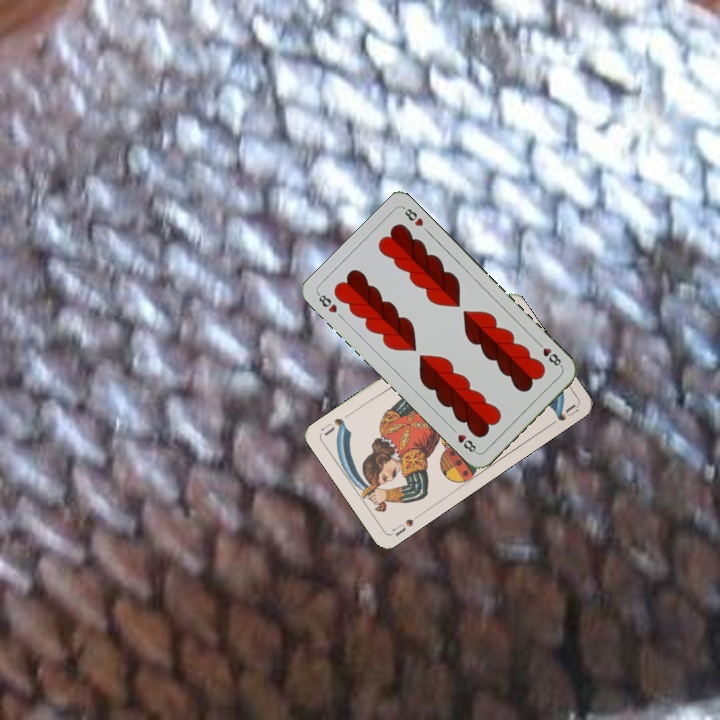H8: (533, 338, 565, 370), (314, 289, 340, 316)
SU: (388, 514, 416, 539)
